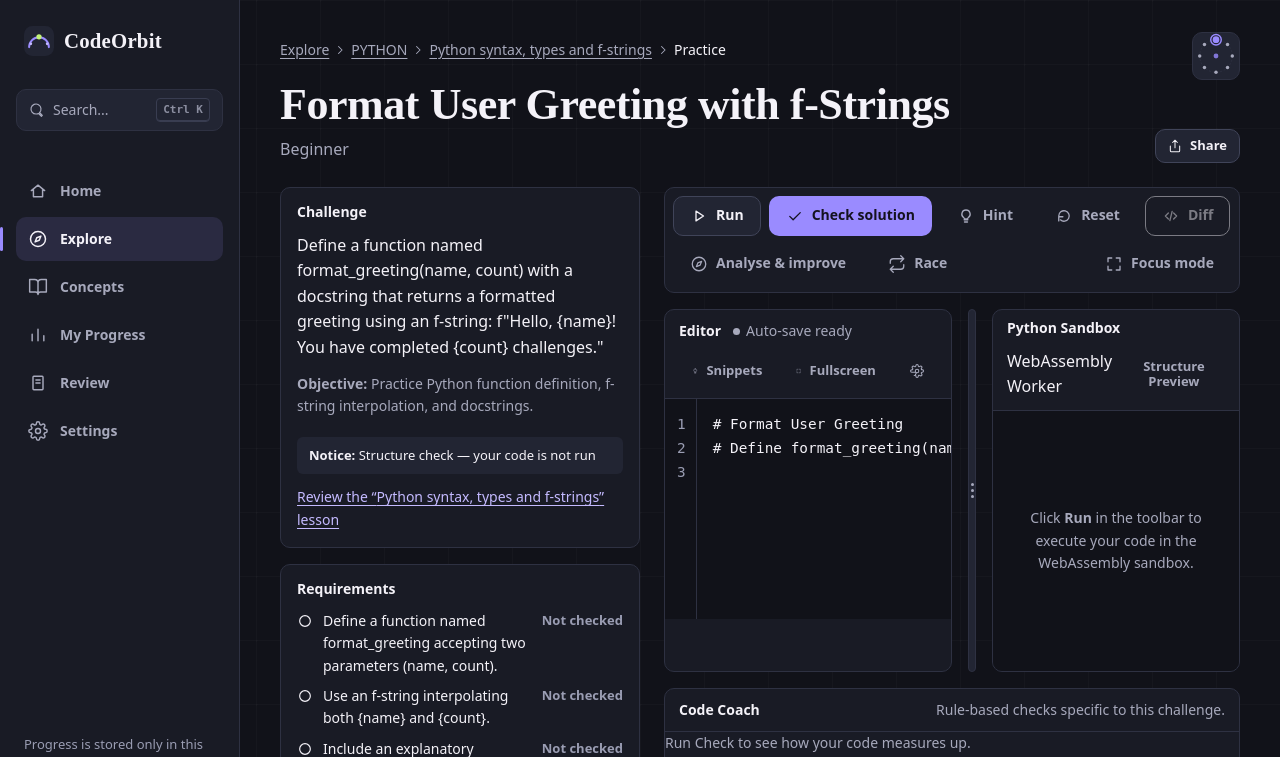
Scenario: Stage 25b: Python Opt-In UX, Non-Executing Preview & Lazy Loading (O-03, L-08, L-14) › switches to Python Sandbox and reveals Run button when execution is enabled
Expected: the heading "Python Sandbox" is shown, [1007, 320, 1120, 337]
Expected: the text "WebAssembly Worker" is shown, [1007, 349, 1115, 400]
Note: Can toggle back to Structure Preview
Click the button "Structure Preview" at (1174, 374), box [1123, 354, 1225, 395]
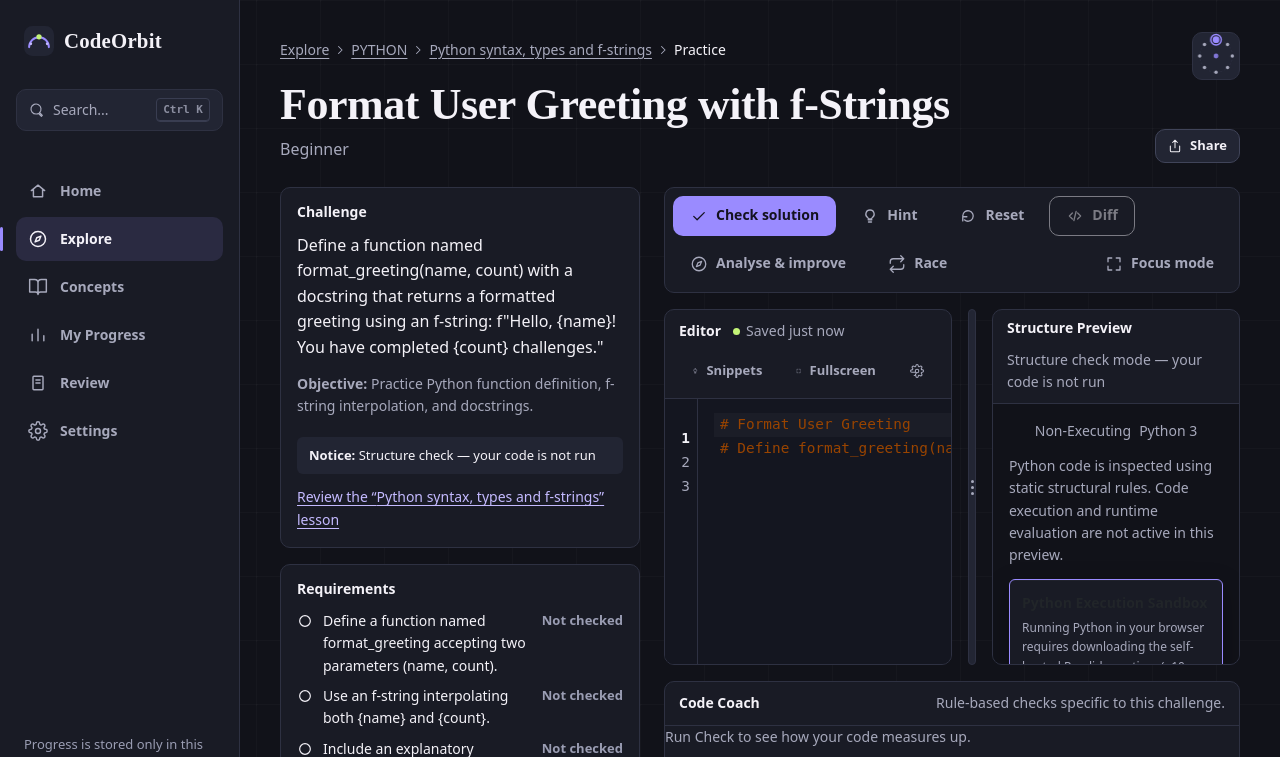
Result: the heading "Structure Preview" is shown at [1007, 320, 1132, 337]
